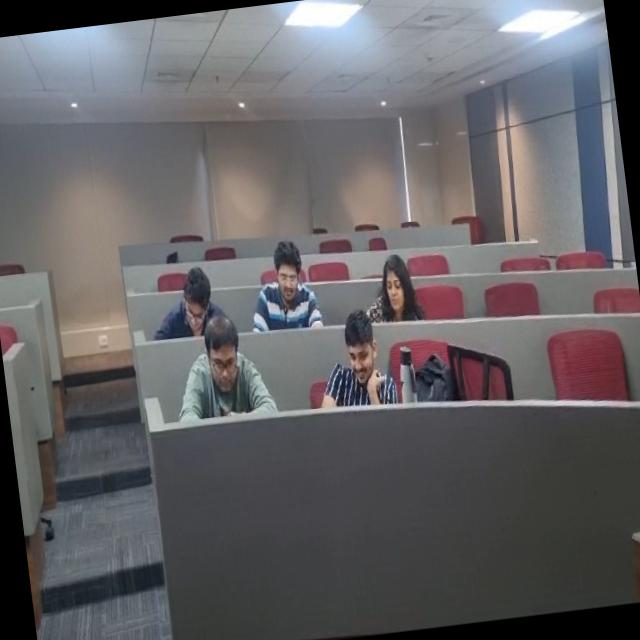cheating: (318, 308, 394, 411)
non-cheating: (175, 311, 279, 429), (247, 234, 323, 336), (154, 263, 228, 349), (363, 246, 427, 332)
